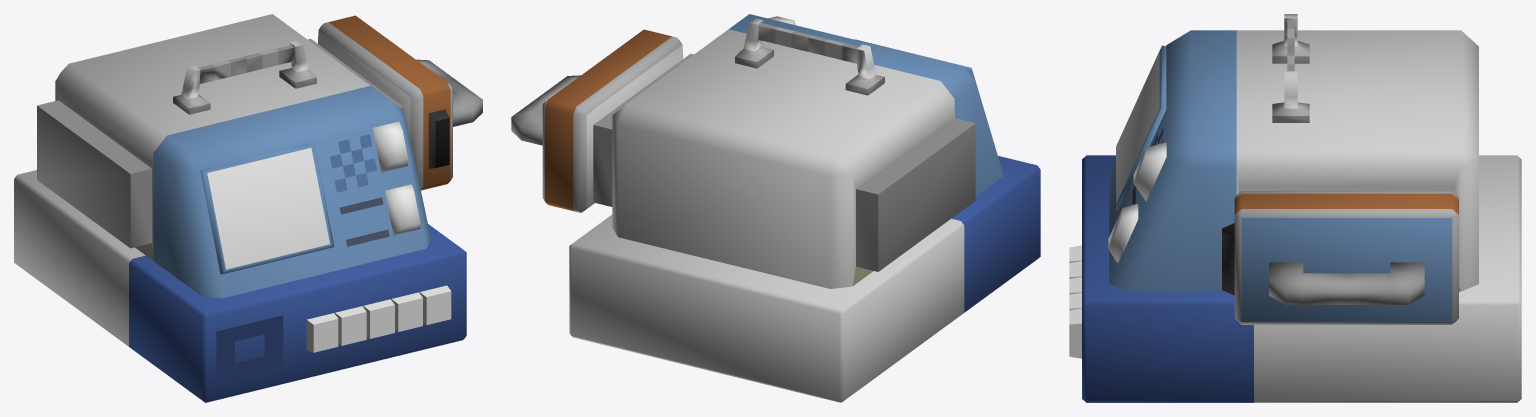
Rendered from PortableDefibrillator.fbx.
The picture shows the model from 3 angles, left to right: view 1: azimuth 30°, elevation 25°; view 2: azimuth 150°, elevation 25°; view 3: azimuth 270°, elevation 25°; orthographic projection. The views are drawn at different scales.
Parts seen in each view (by area): view 1: PortableDefibrillator; view 2: PortableDefibrillator; view 3: PortableDefibrillator.
Part boxes in pixels (x1,y1,x2,y2): PortableDefibrillator: (14,14,482,402); PortableDefibrillator: (511,14,1040,402); PortableDefibrillator: (1069,14,1521,402).
Bounding box in the file's own units: 57.08 × 36.63 × 52.45.
